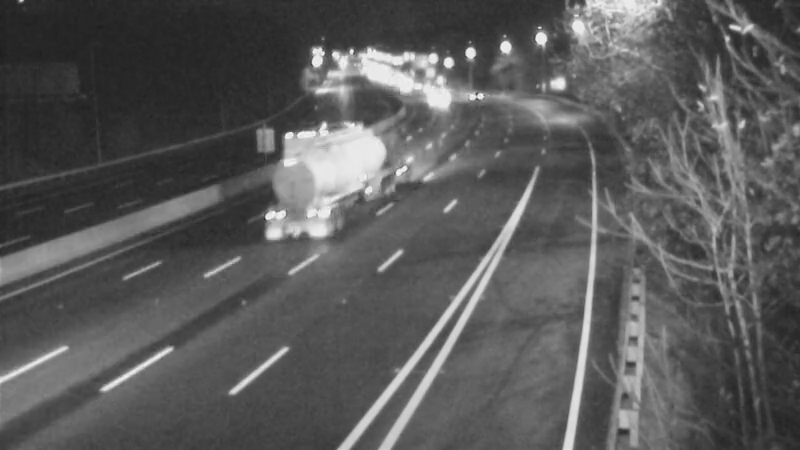vehicle: (261, 142, 341, 222), (451, 66, 501, 116), (412, 69, 462, 119)
